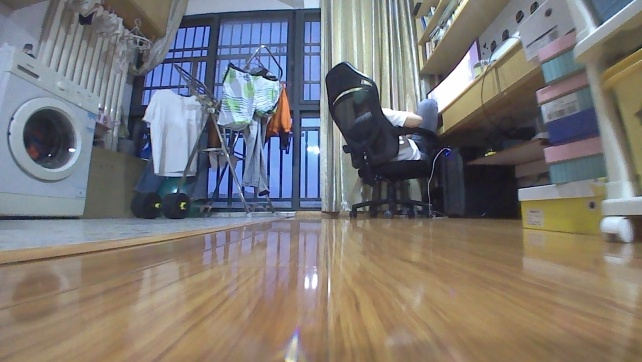washing_machine: (0, 42, 102, 225)
wire: (476, 65, 513, 135), (420, 146, 445, 220)
